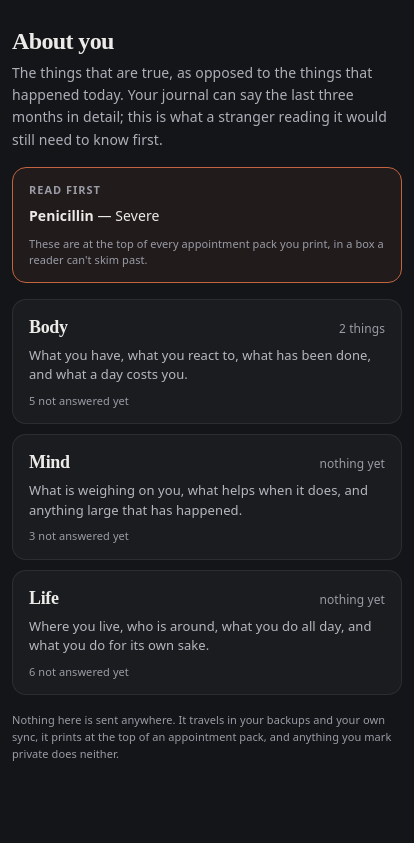
Scenario: the read-only viewer › shows the record and offers nothing that writes
Click the button "Body". click: point(207, 361)
box: [12,298,402,424]
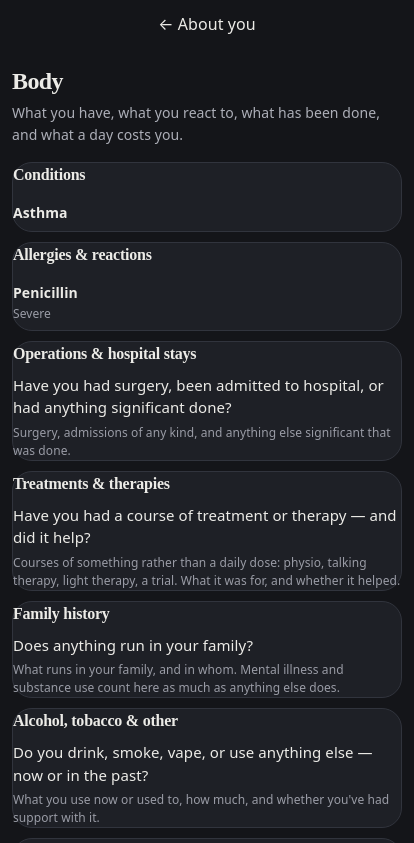
Check: the text "Asthma" is shown, box [13,203,68,222]
